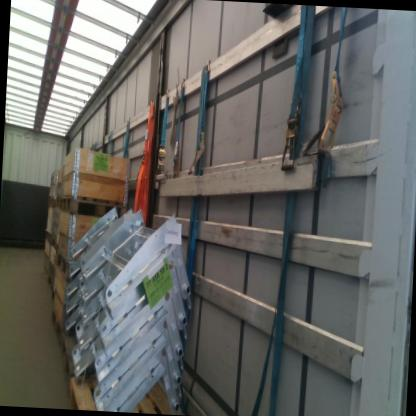pallet: (67, 373, 184, 415), (56, 329, 96, 380), (60, 194, 129, 223), (46, 303, 66, 350), (55, 250, 75, 282), (40, 256, 49, 281), (43, 228, 52, 246), (51, 233, 57, 255), (53, 196, 61, 210), (47, 194, 53, 208)
